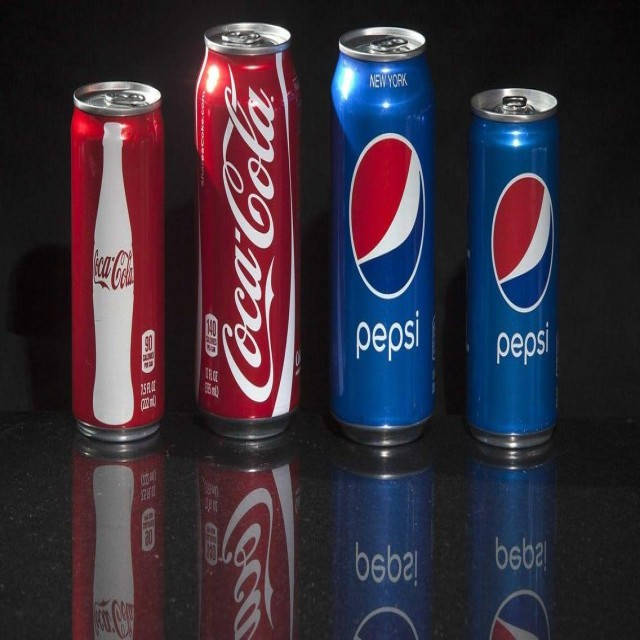pepsi: (347, 129, 429, 299), (492, 175, 562, 313)
